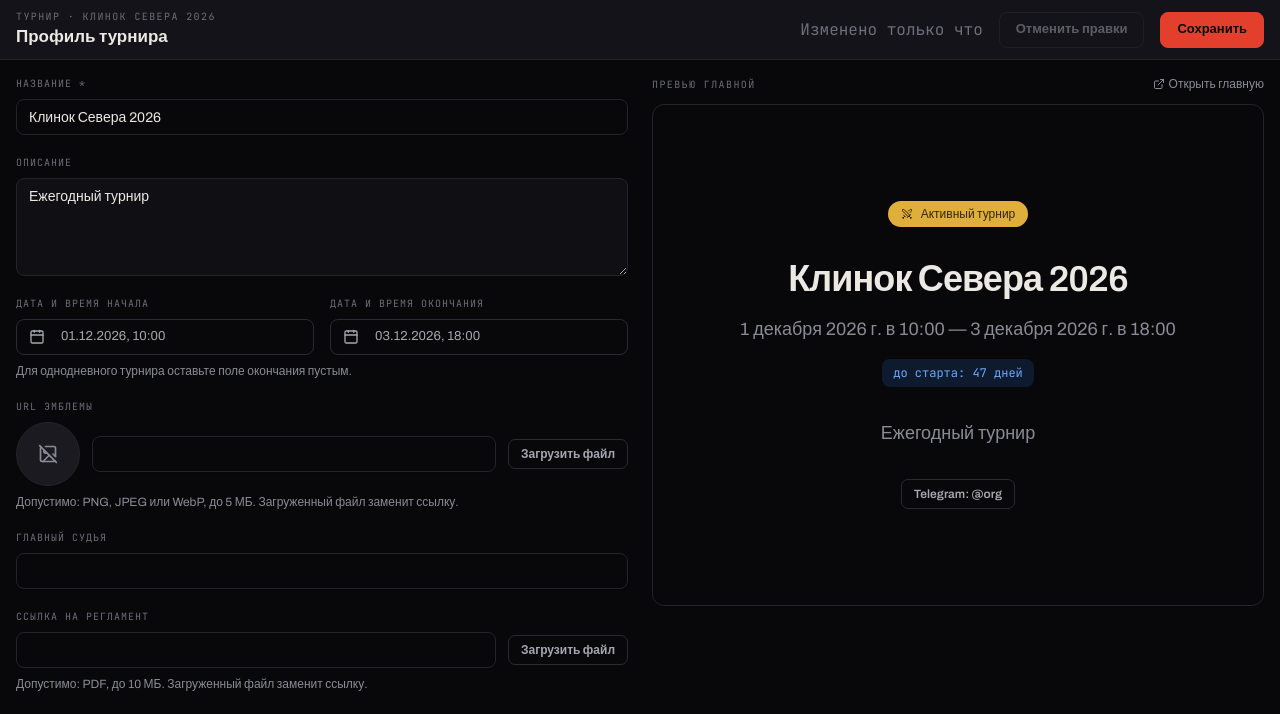
Test: TournamentScreen (spec 0029) › successful save shows a success toast and clears the unsaved bar (AC-6)
Replace the text in the text box labelled "Описание" with "Новое описание": [322, 227] box [16, 178, 628, 276]
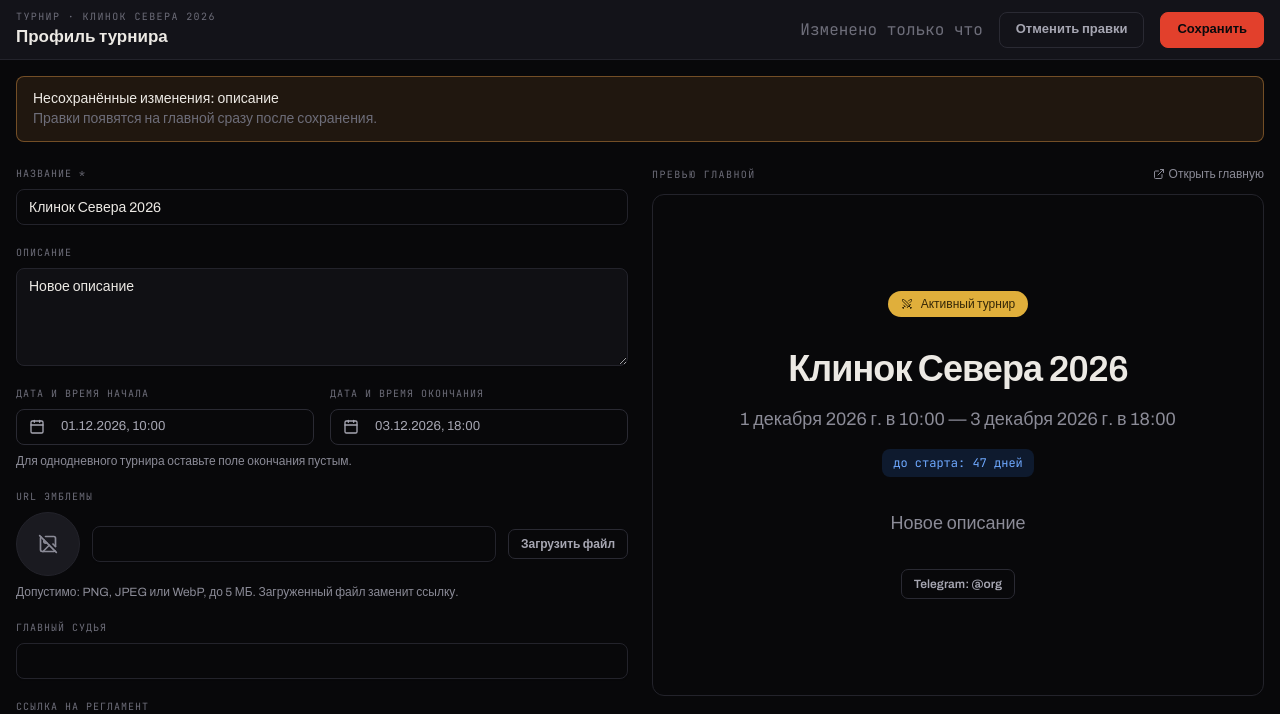
Click the button "Сохранить": [1212, 30] box [1160, 12, 1264, 48]
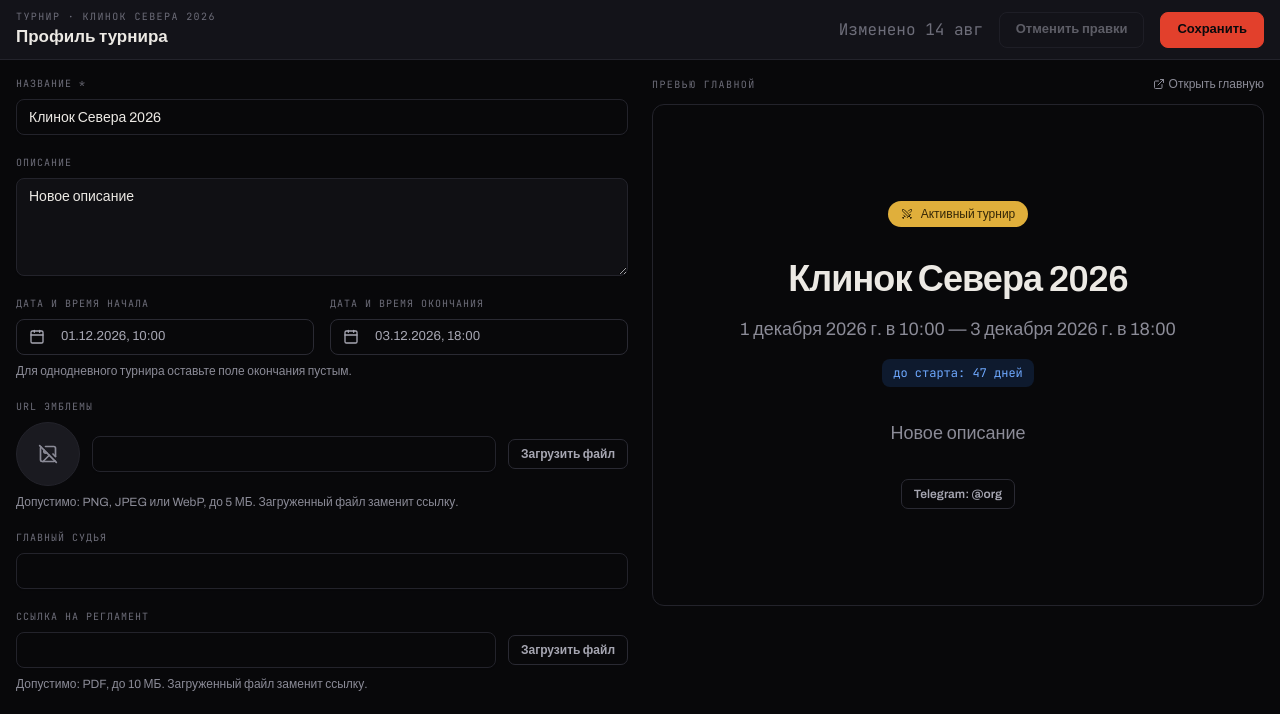
expect the text "Несохранённые изменения" is gone: met
